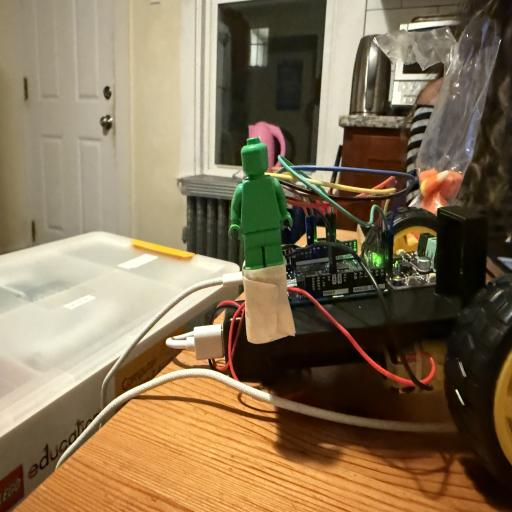Minifig: (229, 137, 293, 269)
